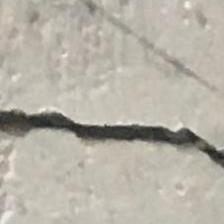Crack: (0, 98, 224, 188)
